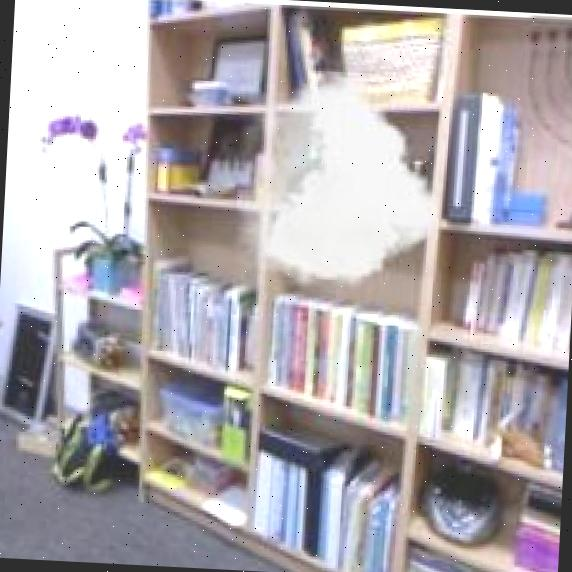smoke: (232, 65, 446, 294)
